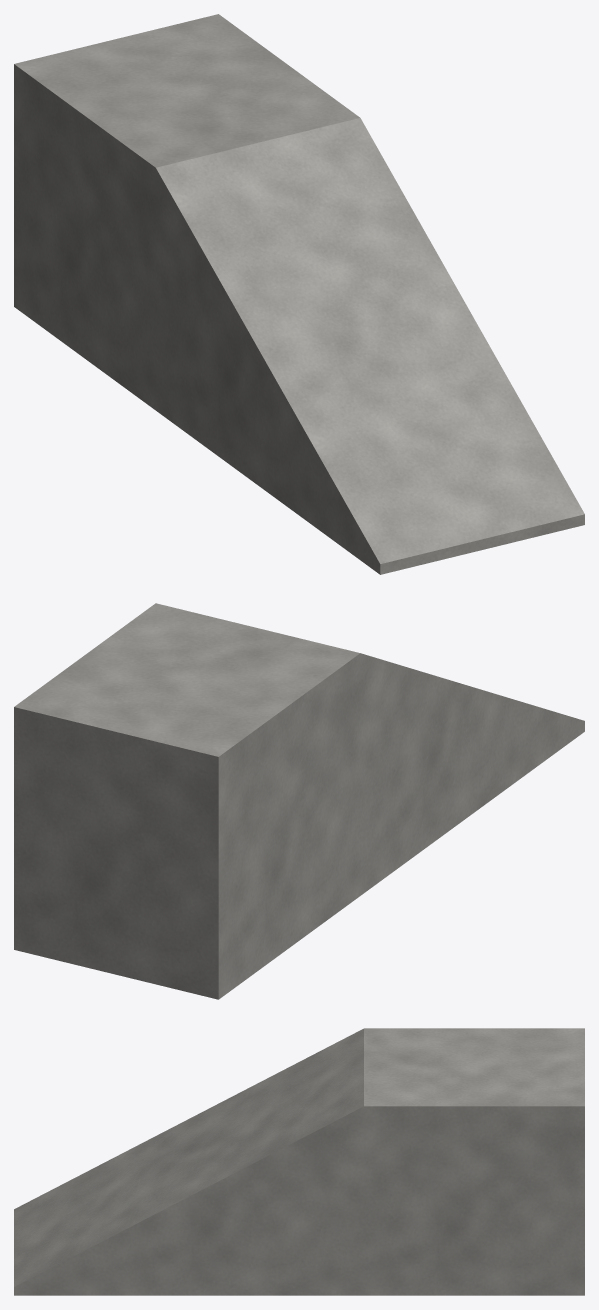
Rendered from ramp.glb.
The picture shows the model from 3 angles, top to bottom: view 1: azimuth 30°, elevation 25°; view 2: azimuth 150°, elevation 25°; view 3: azimuth 270°, elevation 25°; orthographic projection. The views are drawn at different scales.
Parts seen in each view (by area): view 1: ramp | arena-solid-ramp; view 2: ramp | arena-solid-ramp; view 3: ramp | arena-solid-ramp.
Boxes of the visible parts, <box> form: ramp | arena-solid-ramp: <box>14,14,584,574</box>; ramp | arena-solid-ramp: <box>14,603,584,999</box>; ramp | arena-solid-ramp: <box>14,1028,584,1295</box>.
Bounding box in the file's own units: 3 × 3.4 × 9.3.
1 material, 1 textured.
